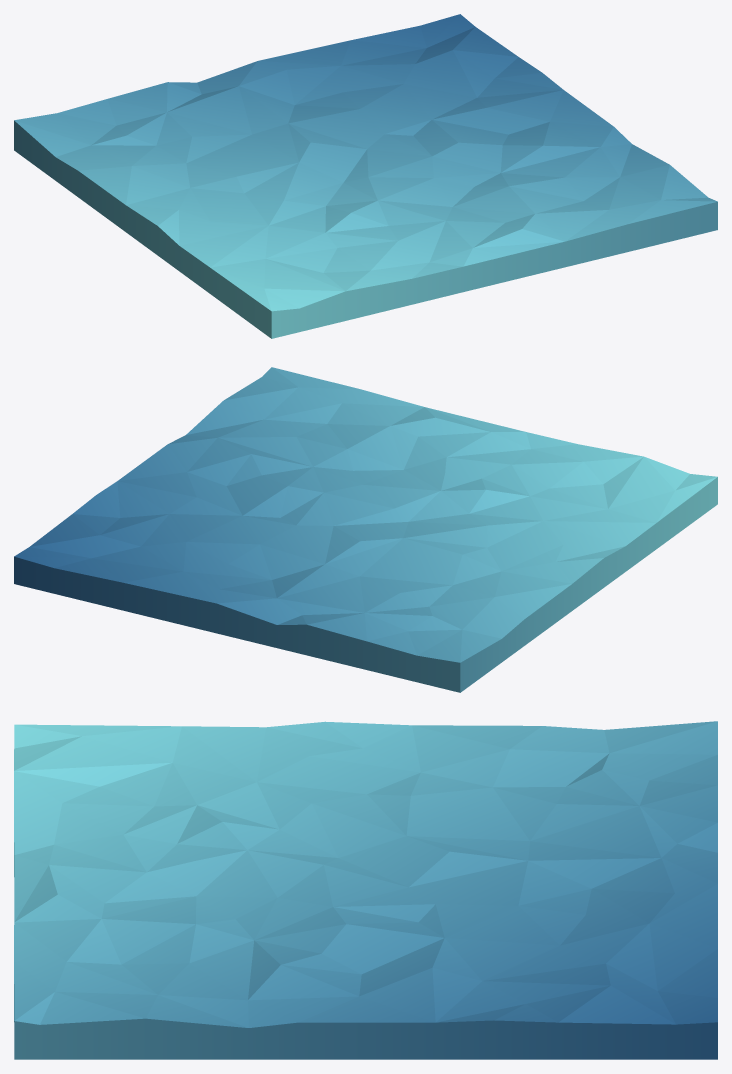
The model's file is water-location-trade-port.glb.
3 renders of one model, top to bottom at view 1: azimuth 30°, elevation 25°; view 2: azimuth 150°, elevation 25°; view 3: azimuth 270°, elevation 25°, orthographic. The views are drawn at different scales.
Parts seen in each view (by area): view 1: water location trade port; view 2: water location trade port; view 3: water location trade port.
Boxes of the visible parts, x1,y1,x2,y2 form: water location trade port: (14,14,717,338); water location trade port: (14,367,717,692); water location trade port: (14,721,717,1059).
Bounding box in the file's own units: 44.02 × 3.14 × 44.02.
1 material, 1 textured.
